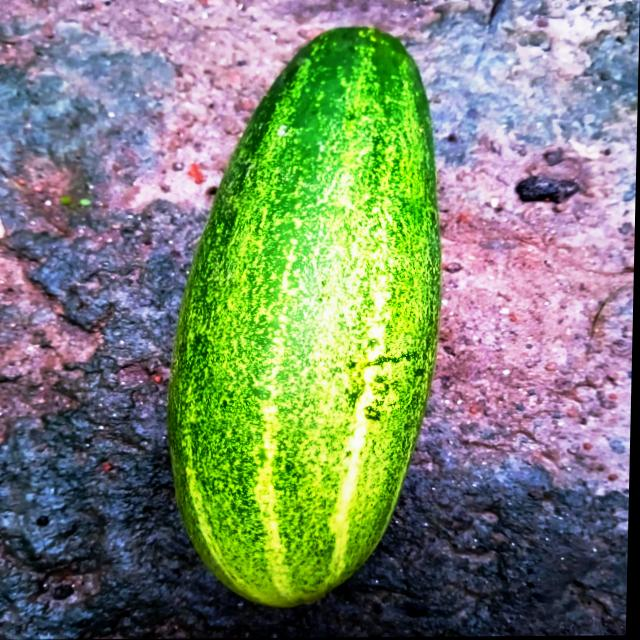Fresh-Cucumber: (163, 23, 450, 611)
